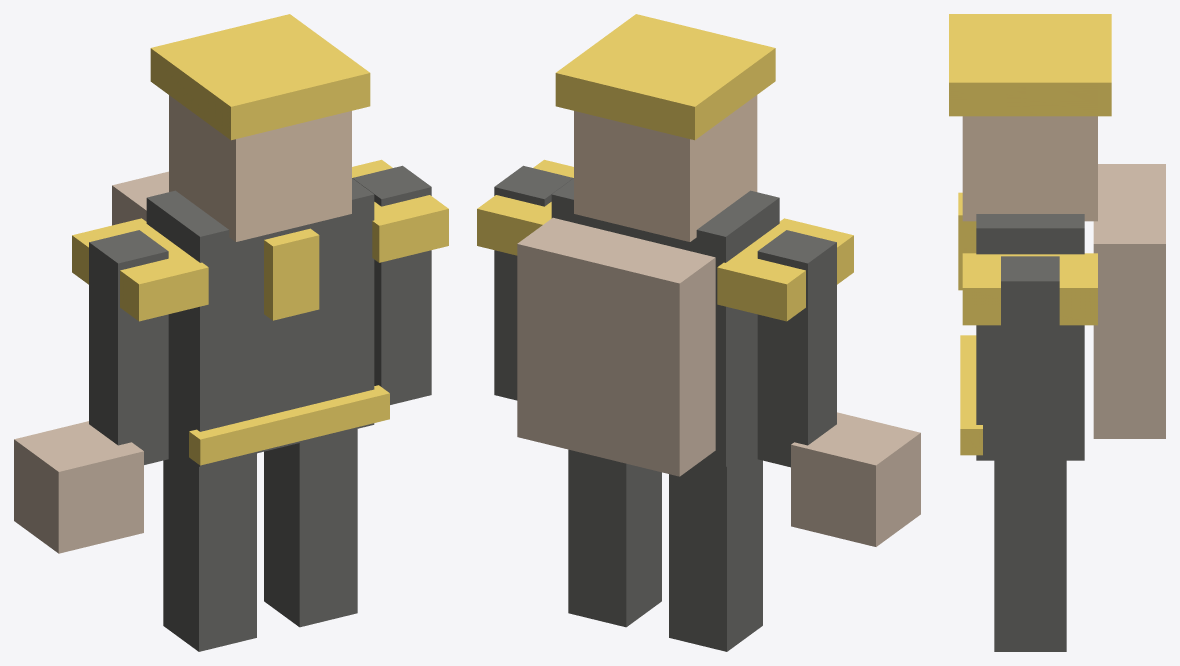
The model's file is 18_varren_riftwalker_fixer_of_zephyr.glb.
3 renders of one model, left to right at view 1: azimuth 30°, elevation 25°; view 2: azimuth 150°, elevation 25°; view 3: azimuth 270°, elevation 25°, orthographic.
Visible parts, largest first — view 1: Varren Riftwalker, Fixer of Zephyr; view 2: Varren Riftwalker, Fixer of Zephyr; view 3: Varren Riftwalker, Fixer of Zephyr.
Boxes of the visible parts, x1,y1,x2,y2 form: Varren Riftwalker, Fixer of Zephyr: [14, 14, 448, 651]; Varren Riftwalker, Fixer of Zephyr: [477, 14, 920, 651]; Varren Riftwalker, Fixer of Zephyr: [949, 14, 1165, 651].
Size of the model in its own units: 1.03 by 1.42 by 0.4949.
